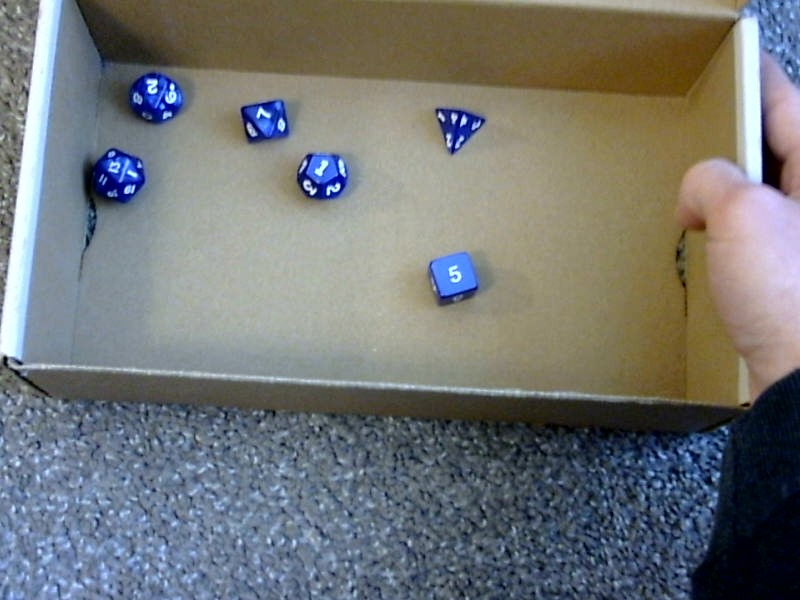d10 2: (123, 66, 184, 126)
d12 1: (298, 149, 346, 201)
d20 13: (84, 143, 147, 207)
d4 4: (431, 104, 488, 158)
d6 5: (420, 246, 480, 306)
d8 7: (237, 95, 289, 145)
